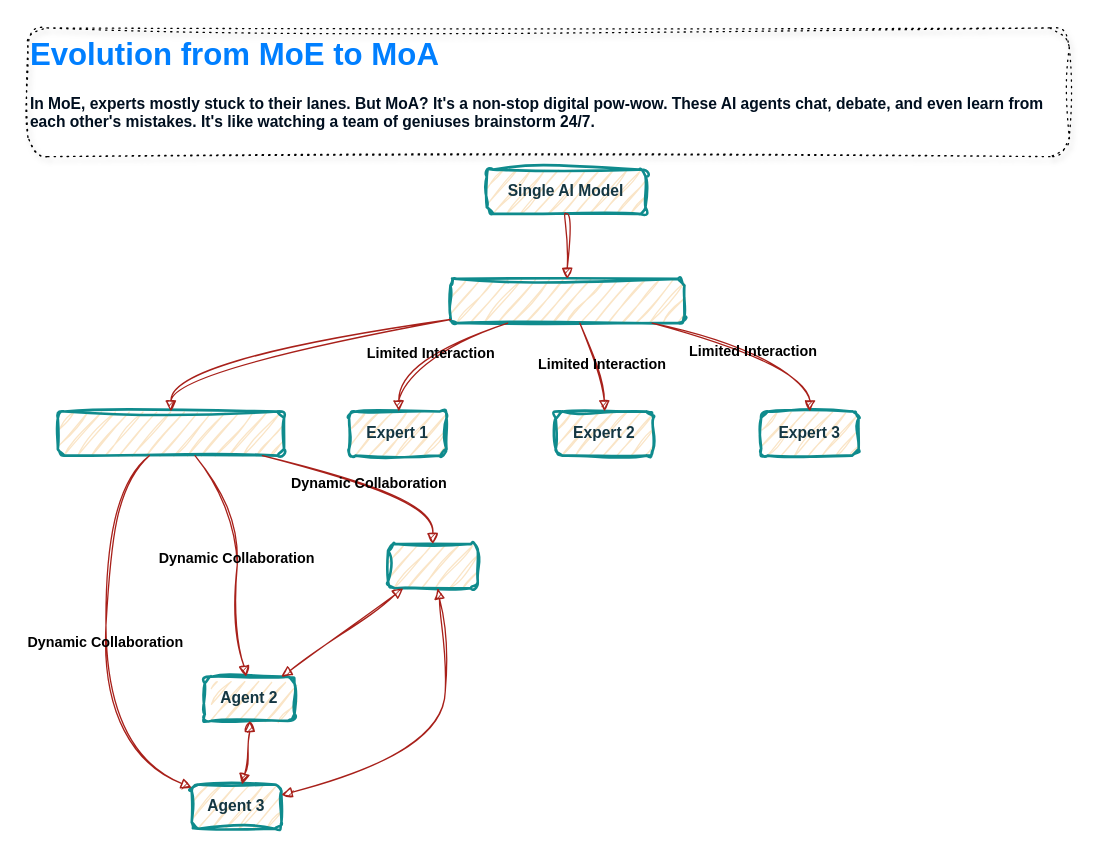
Image size: 1100x853. Some labels were removed from this diagram. Each missing label, with the centre of its shape:
"Agent 1" belongs at (432,565).
"Mixture of Agents MoA" belongs at (170,433).
"Mixture of Experts MoE" belongs at (566,300).
